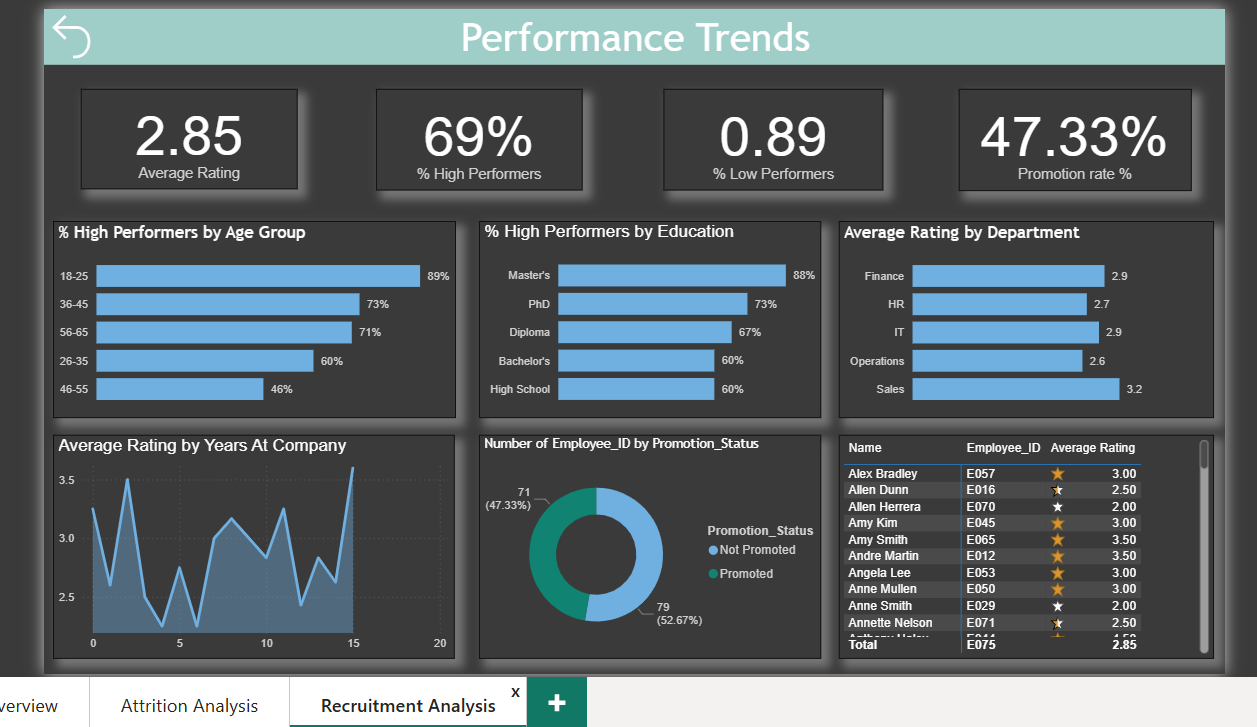

What the dashboard file says about the page in this screenshot:
{"tool":"powerbi","page":{"name":"Recruitment Analysis","canvas":[1280,720],"ordinal":2},"visuals":[{"type":"textbox","box":[0,0,1283,60.5],"z":0},{"type":"card","fields":{"Values":["Measures Table (2).% Low Performers"]},"box":[671.1,85.9,238.3,110.2],"z":1000},{"type":"card","fields":{"Values":["Attendance.% High Performers"]},"box":[359.8,85.9,223.7,110.2],"z":2000},{"type":"card","fields":{"Values":["Measures Table (2).Average Rating"]},"box":[40.5,85.9,235,108.6],"z":3000},{"type":"barChart","fields":{"Y":["Measures Table (2).% High Performers"],"Category":["Employees.Age Group"]},"box":[10.4,229.5,436.6,213.1],"z":4000},{"type":"barChart","fields":{"Y":["Measures Table (2).% High Performers"],"Category":["Employees.Education"]},"box":[472.3,229.5,371,213.1],"z":5000},{"type":"lineChart","fields":{"Y":["Measures Table (2).Average Rating"],"Category":["Employees.Years At Company"]},"box":[10.4,461.9,435.1,242.9],"z":6000},{"type":"clusteredBarChart","fields":{"Category":["Employees.Department"],"Y":["Measures Table (2).Average Rating"]},"box":[861.2,229.5,406.8,213.1],"z":7000},{"type":"card","fields":{"Values":["Measures Table (2).Promotion rate %"]},"box":[992.2,86,252.1,110.7],"z":8000},{"type":"donutChart","title":"Number of Employee_ID by Promotion_Status","fields":{"Category":["Performance.Employee_ID","Performance.Promotion_Status"],"Y":["Performance.Employee_ID"]},"box":[472.3,461.9,371,242.9],"z":9000},{"type":"pivotTable","fields":{"Rows":["Employees.Name"],"Values":["Employees.Employee_ID","Measures Table (2).Average Rating"]},"box":[861.2,461.9,406.8,242.9],"z":10000},{"type":"actionButton","box":[0,0,108.6,60],"z":11000}]}

Visuals, with their boxes in screenshot pixels (x1, y1, x2, y2):
textbox: x1=33 y1=7 x2=1231 y2=63
card - Measures Table (2).% Low Performers: x1=660 y1=87 x2=882 y2=190
card - Attendance.% High Performers: x1=369 y1=87 x2=578 y2=190
card - Measures Table (2).Average Rating: x1=71 y1=87 x2=290 y2=188
barChart - Measures Table (2).% High Performers x Employees.Age Group: x1=42 y1=221 x2=450 y2=420
barChart - Measures Table (2).% High Performers x Employees.Education: x1=474 y1=221 x2=820 y2=420
lineChart - Measures Table (2).Average Rating x Employees.Years At Company: x1=42 y1=438 x2=449 y2=665
clusteredBarChart - Employees.Department x Measures Table (2).Average Rating: x1=837 y1=221 x2=1217 y2=420
card - Measures Table (2).Promotion rate %: x1=960 y1=87 x2=1195 y2=190
"Number of Employee_ID by Promotion_Status" donutChart: x1=474 y1=438 x2=820 y2=665
pivotTable - Employees.Name x Employees.Employee_ID: x1=837 y1=438 x2=1217 y2=665
actionButton: x1=33 y1=7 x2=134 y2=63
